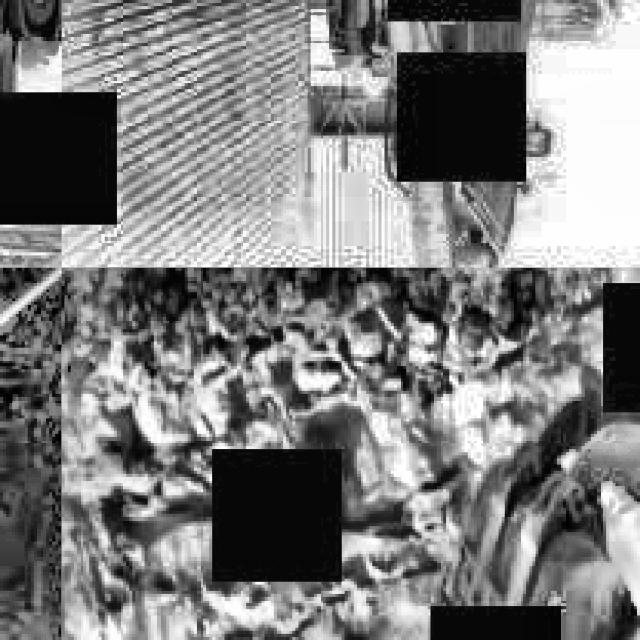buldozerpayloadergrader: (427, 267, 640, 640)
excavator: (274, 0, 640, 265)
